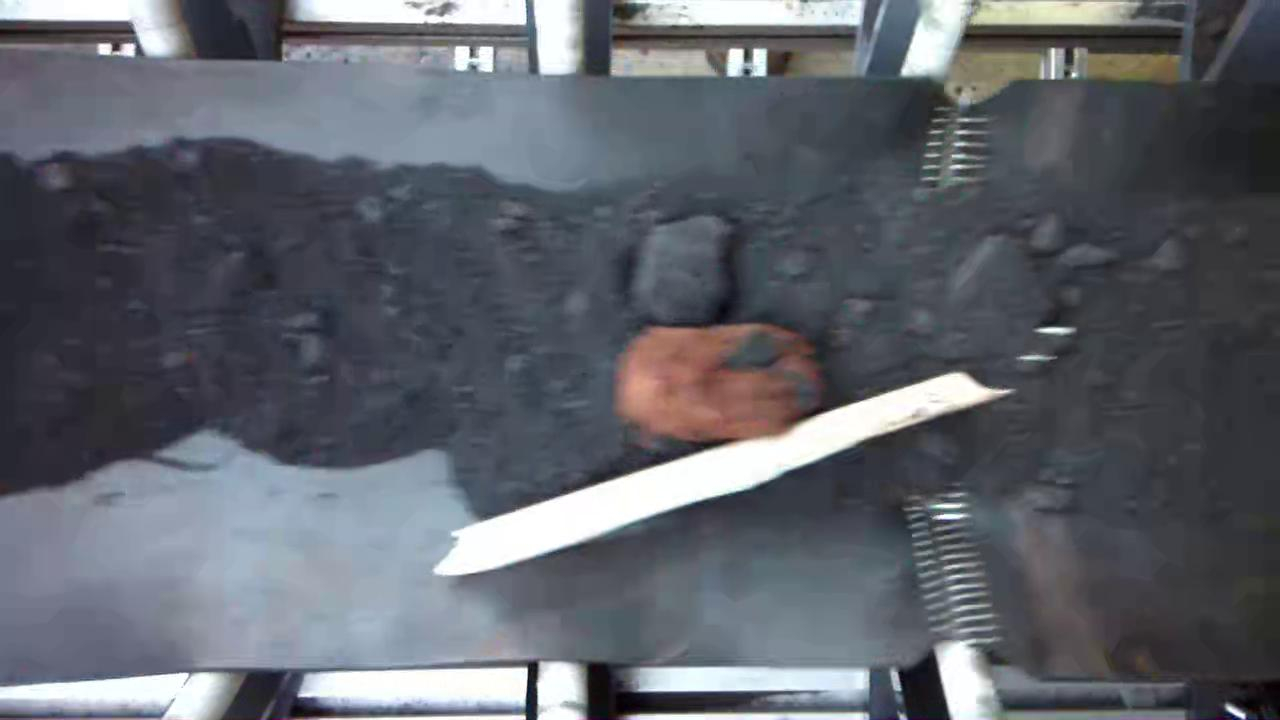conveyor: (1, 90, 1280, 661)
